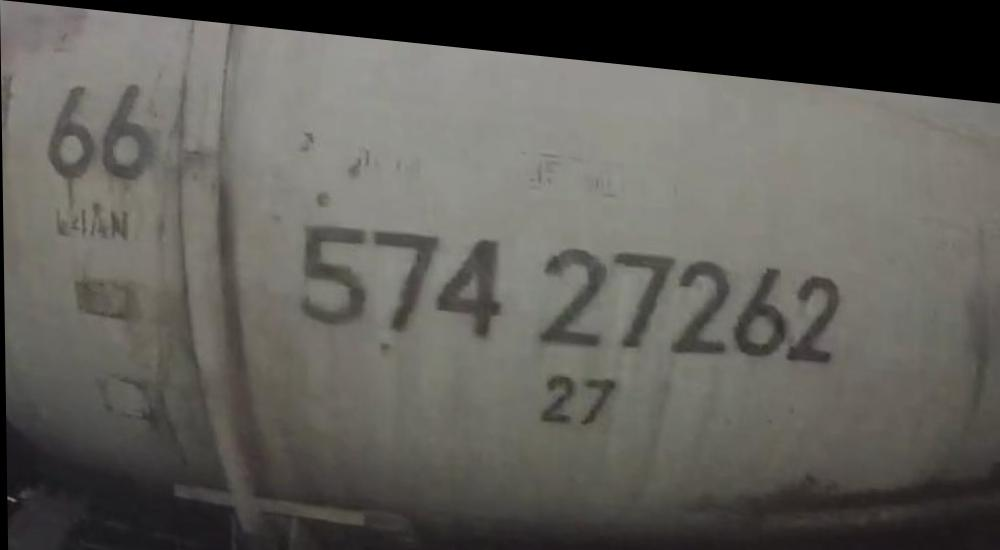Wagon-number: (292, 206, 844, 364)
